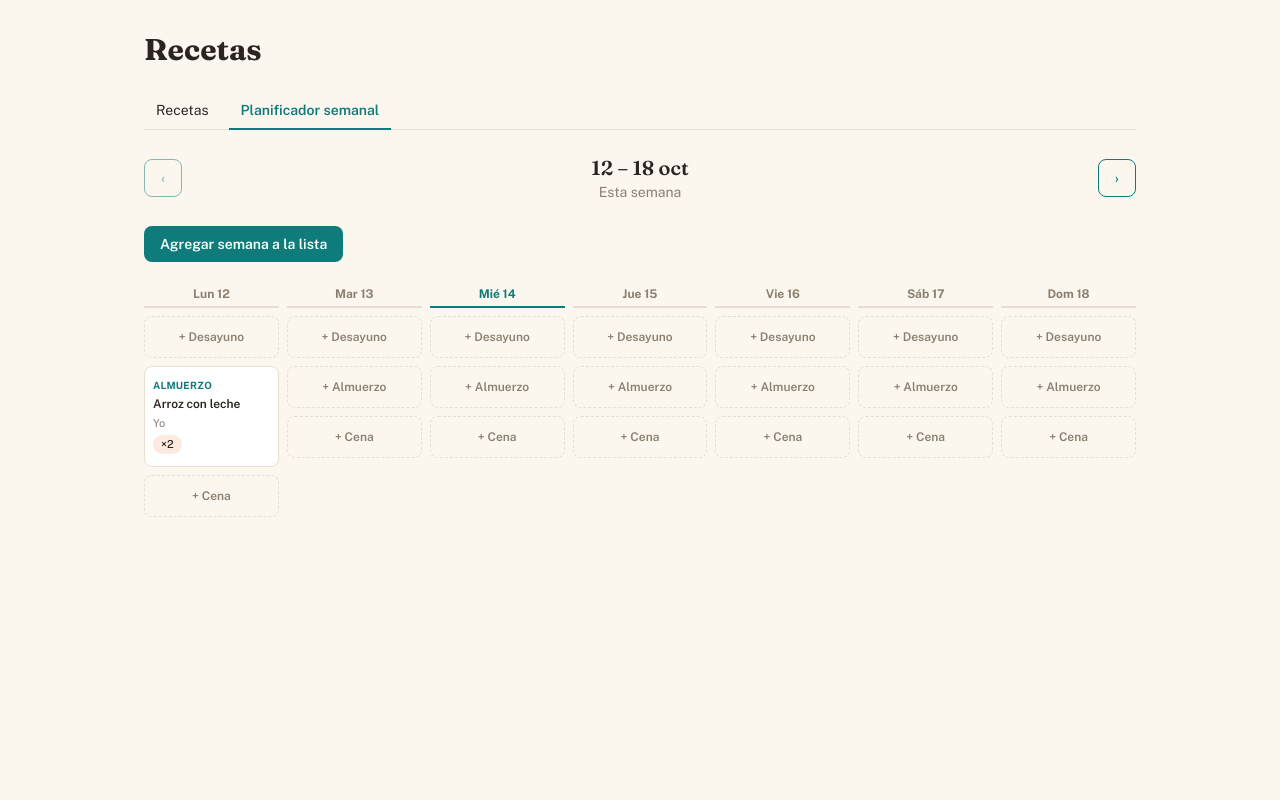
Test case: MealPlanner: assigning a recipe to an empty slot › saves the slot, closes the dialog and shows the recipe in the grid
Click the button with aria-label "Cena del lunes 12, vacío, asignar" at (211, 496), box [144,475,279,517]
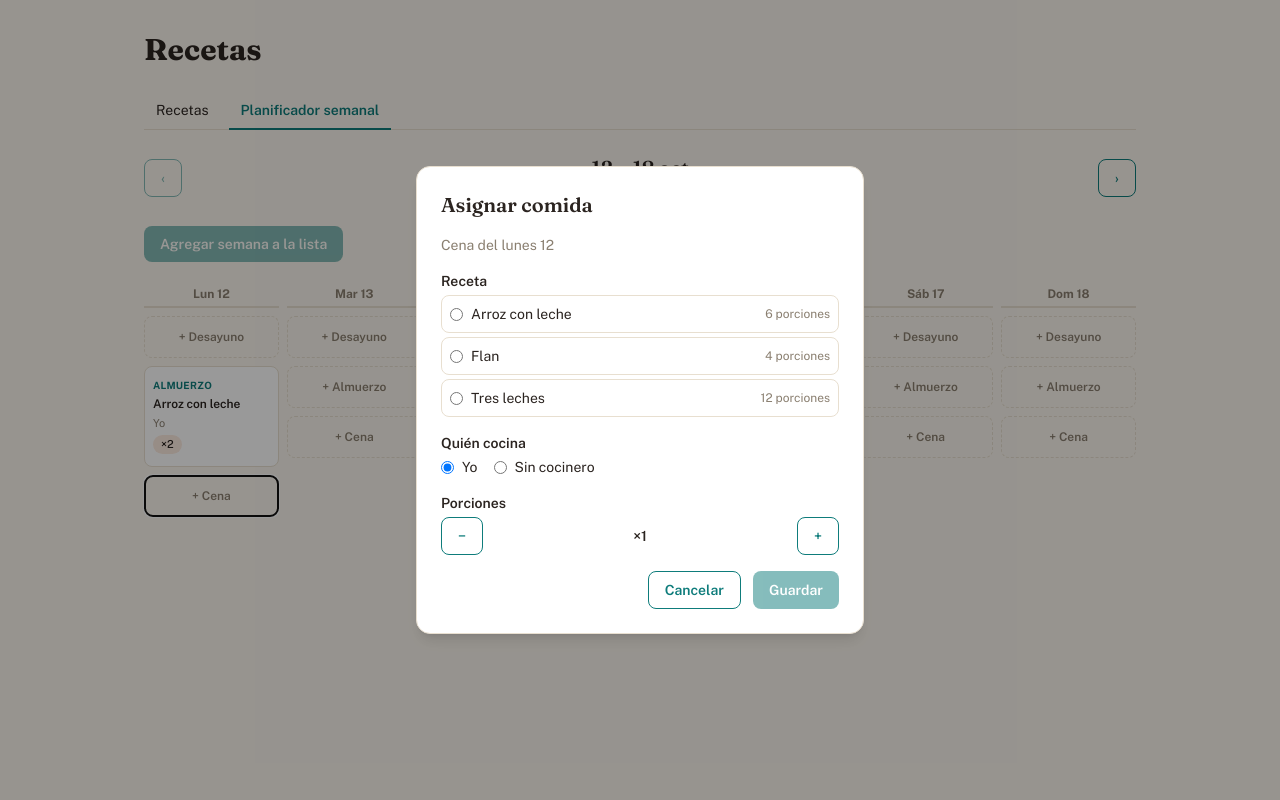
Click the radio button labelled "Flan 4 porciones" at (456, 356), box [450,350,463,362]
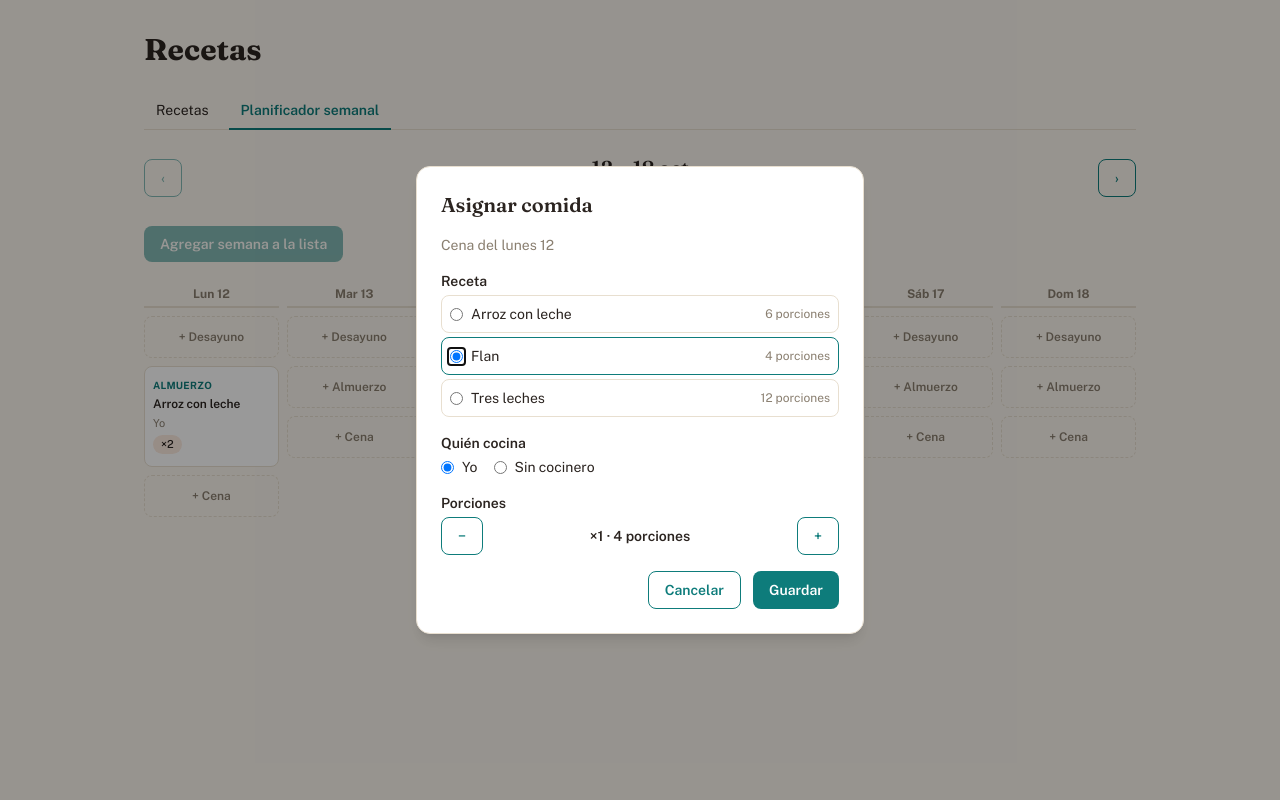
Click the button "Guardar" at (796, 590), box [753,571,839,609]
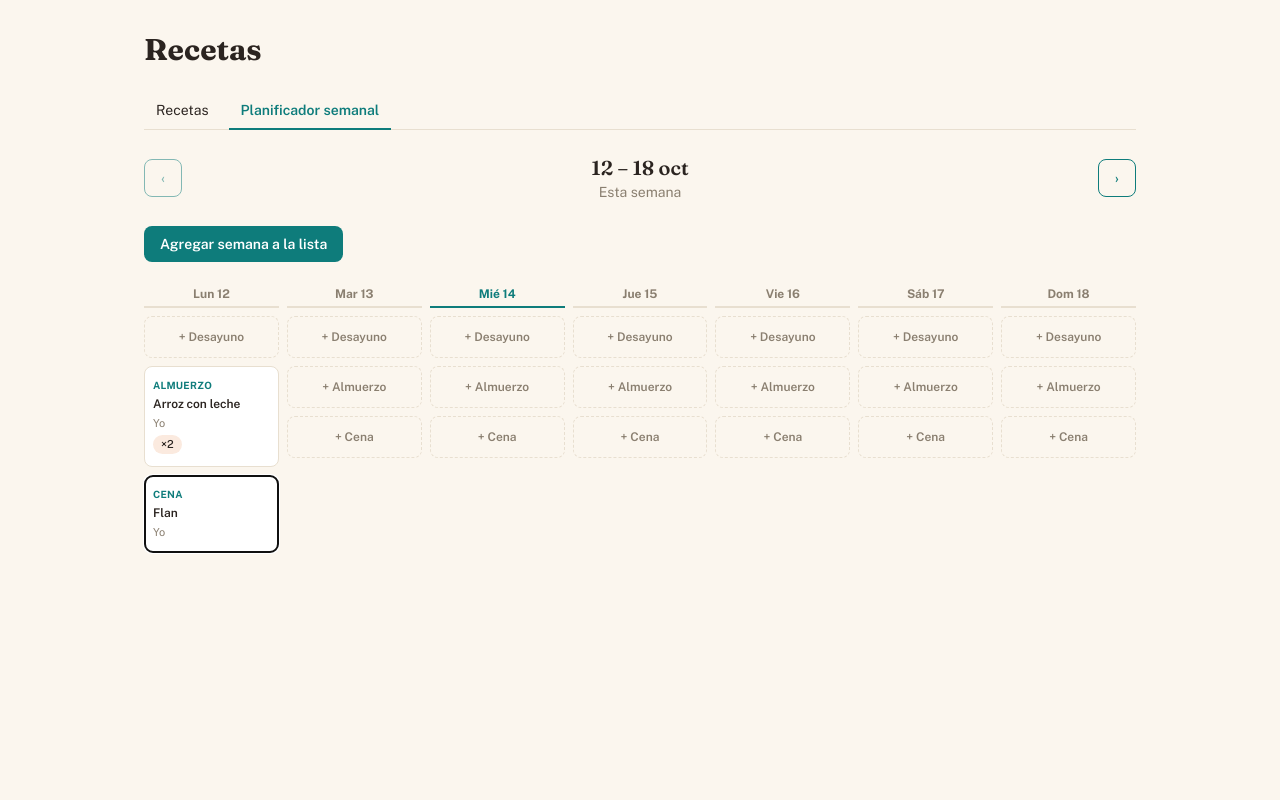
Expected: the dialog is gone
Expected: the button with aria-label "Cena del lunes 12: Flan, cambiar" shows "Flan", [144,475,279,553]
